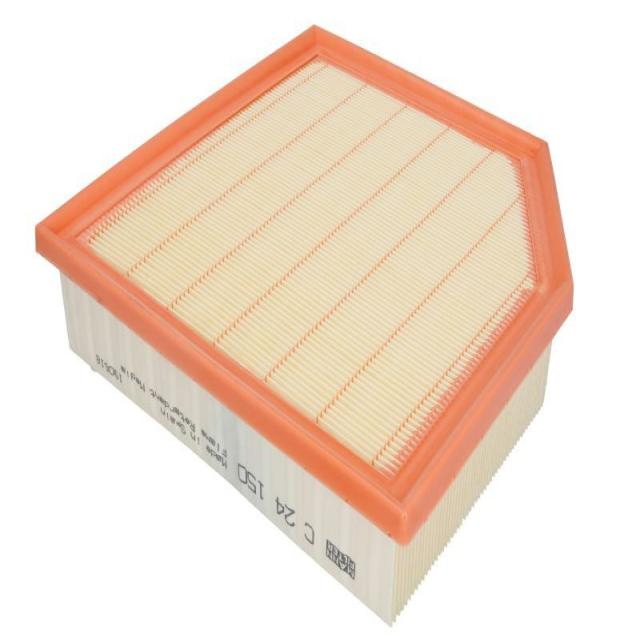air_filter: (41, 27, 592, 628)
